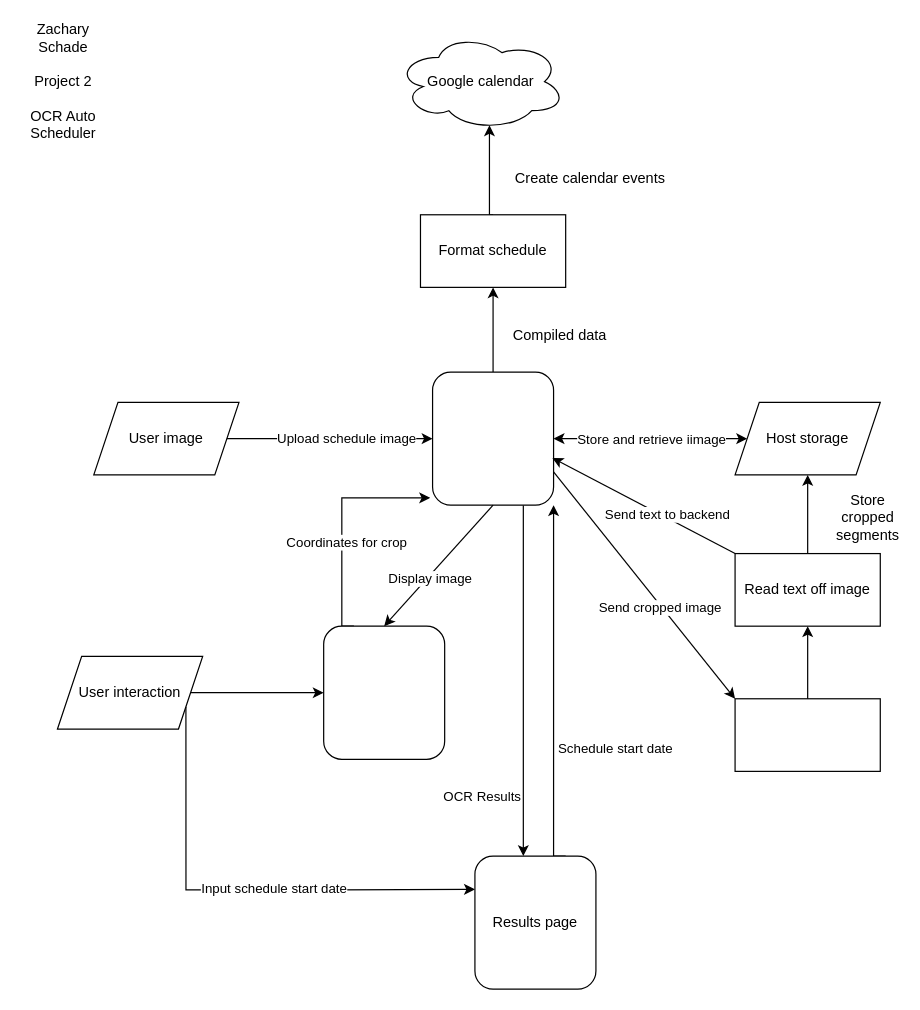
Image size: 920x1010. Some labels were removed from this diagram. The centre of each missing label's shape, as x and y in pixels:
Backend flask host (Backend.py): the point at 492,438
Crop Page: the point at 383,692
Crop/split image: the point at 807,734
